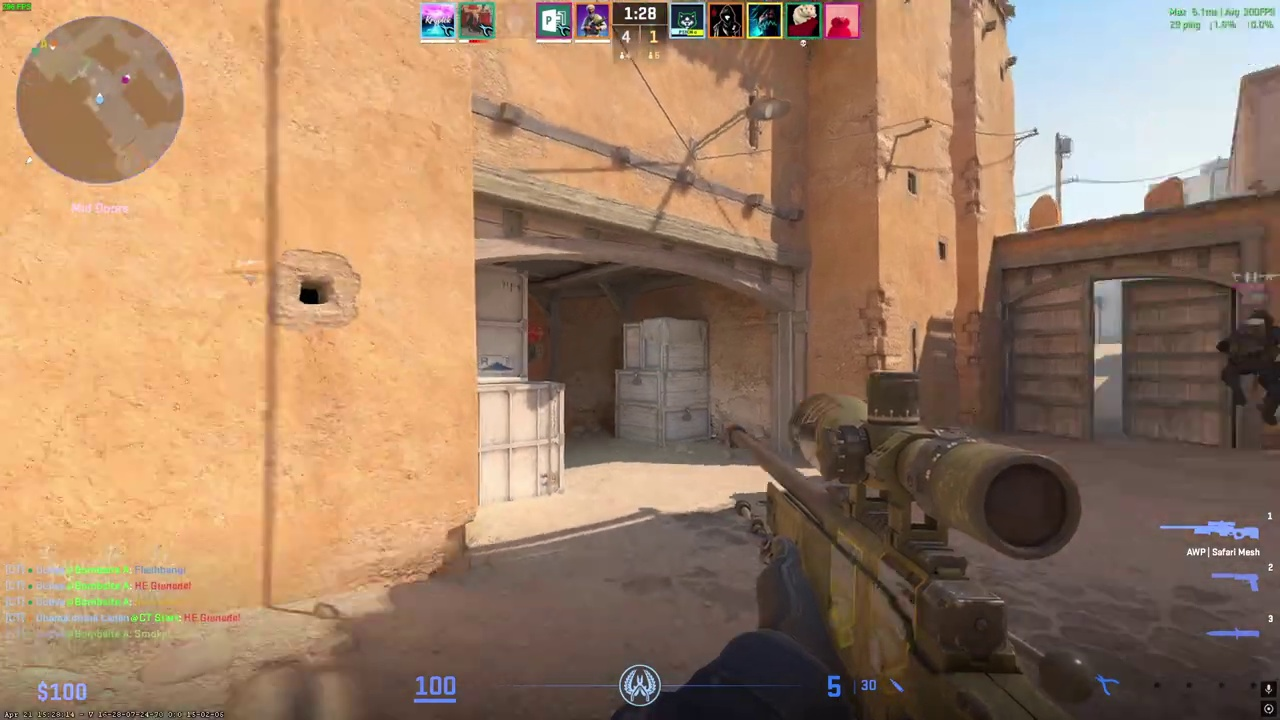CT: (1226, 310, 1280, 426)
